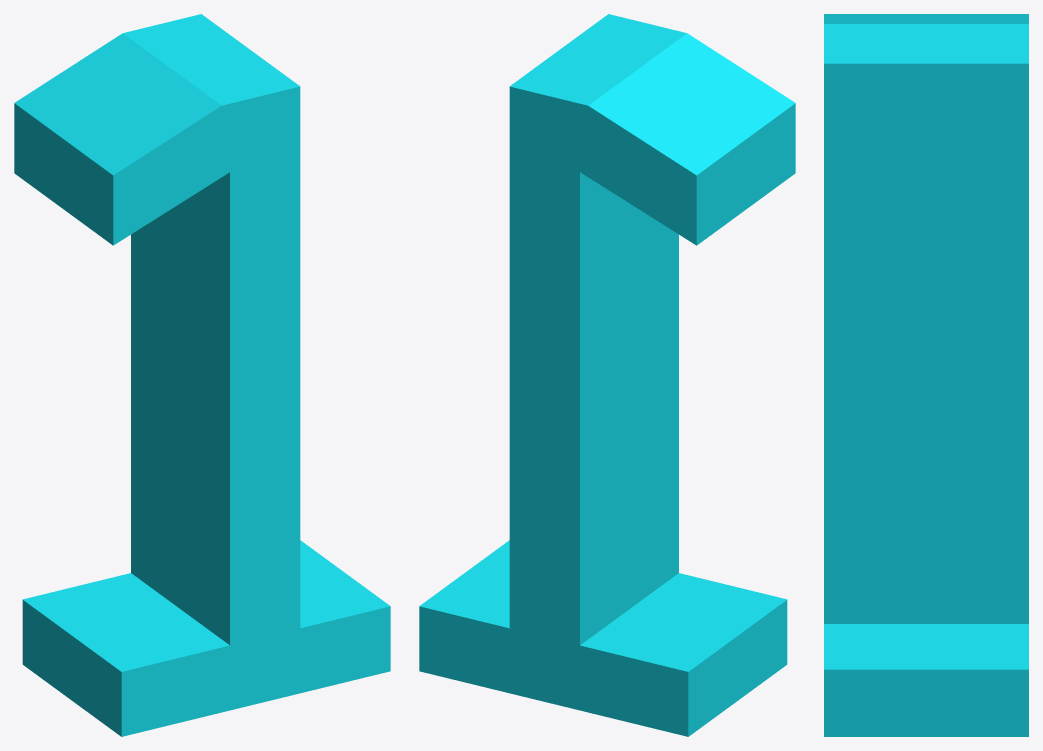
File: digit1.glb
3 views of the same model, side by side, from view 1: azimuth 30°, elevation 25°; view 2: azimuth 150°, elevation 25°; view 3: azimuth 270°, elevation 25° (orthographic). The views are drawn at different scales.
Visible parts, largest first — view 1: Digit1; view 2: Digit1; view 3: Digit1.
Part boxes in pixels (left/top/right/bottom): Digit1: left=14, top=14, right=390, bottom=736; Digit1: left=419, top=14, right=795, bottom=736; Digit1: left=824, top=14, right=1028, bottom=736.
Bounding box in the file's own units: 0.3073 × 0.6422 × 0.19.
